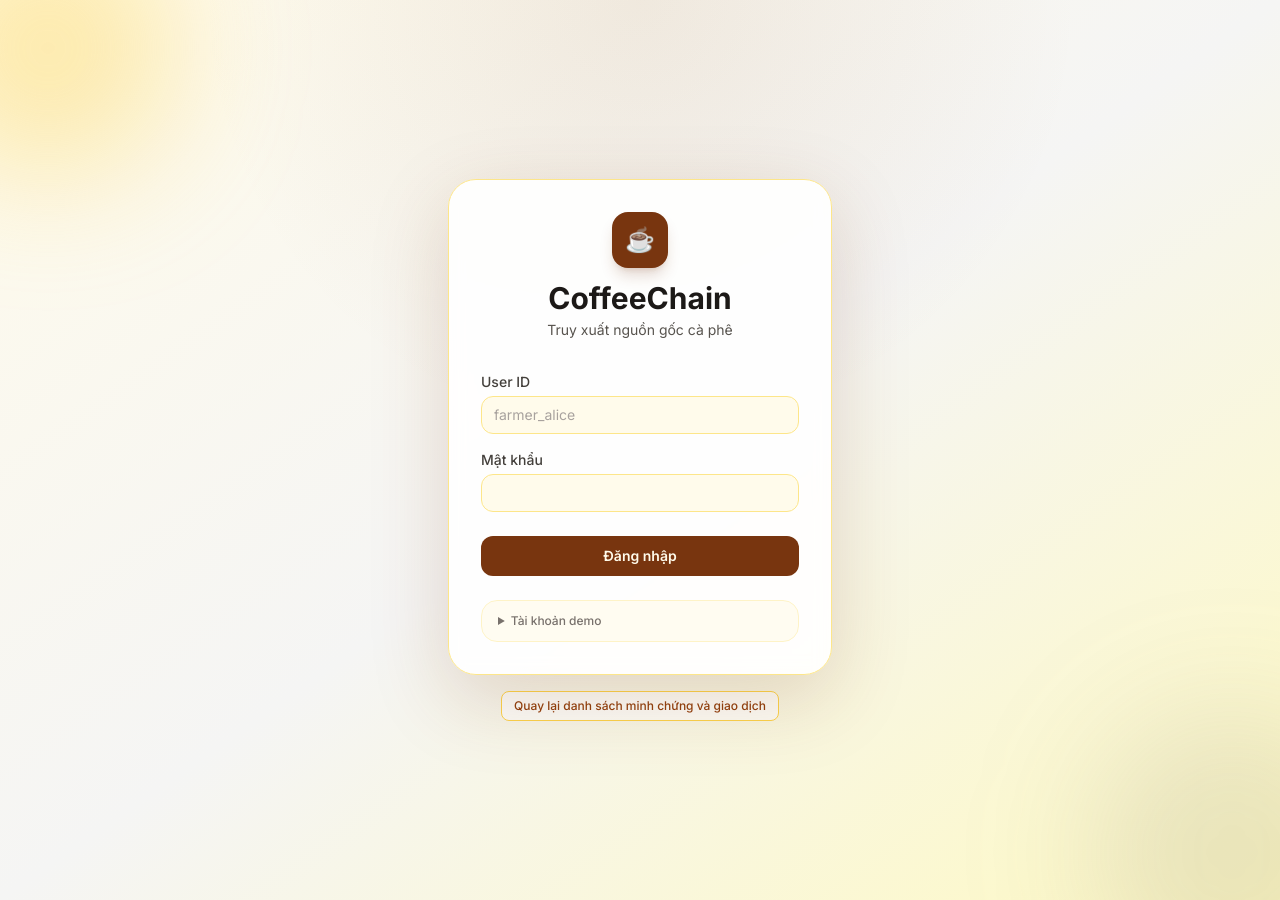
Test: LoginPage › user không tồn tại → hiển thị fallback message
Type "unknown_user" into the field labelled "User ID" at (640, 415), box [481,396,799,434]
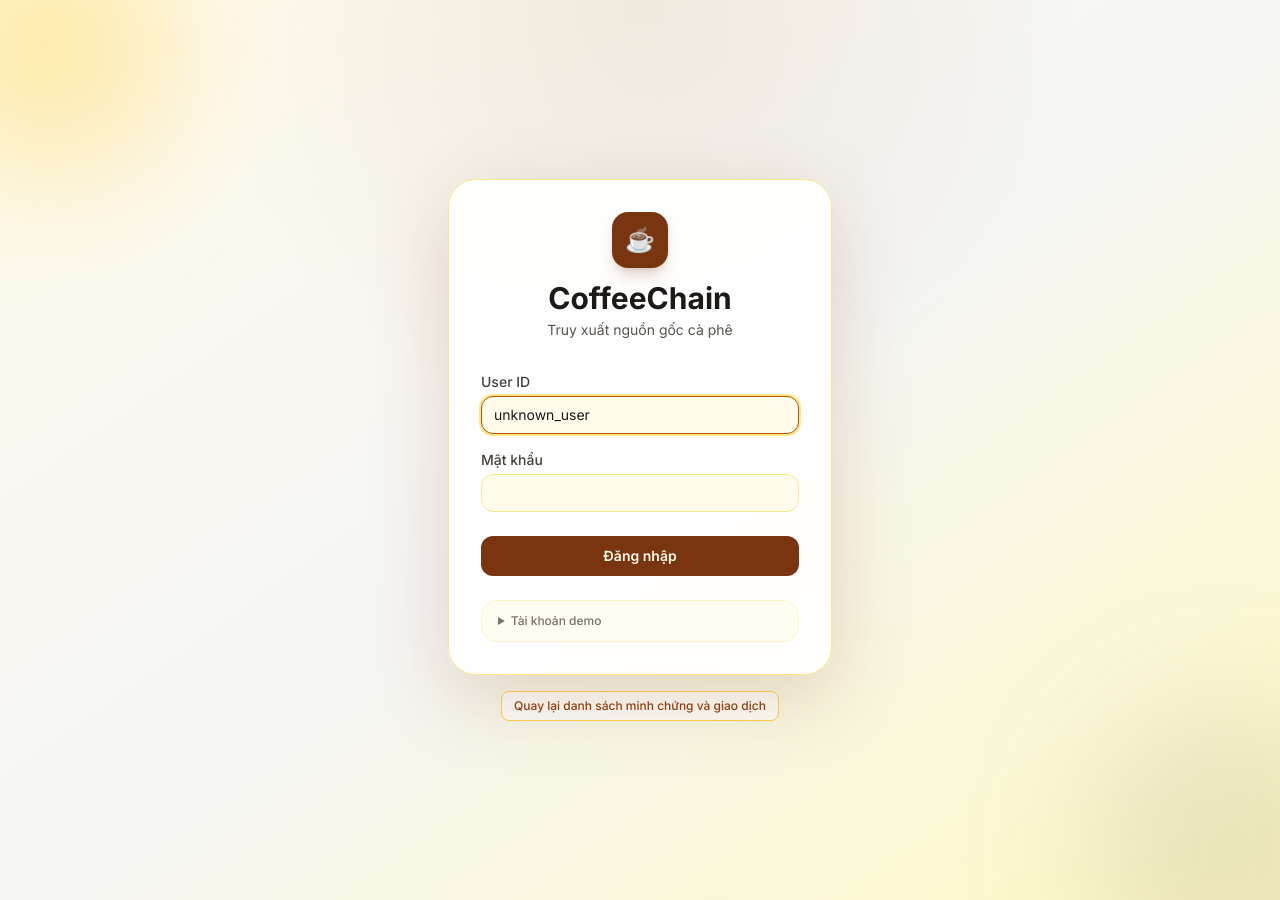
Type "pw123" into the password field labelled "Mật khẩu" at (640, 493), box [481,474,799,512]
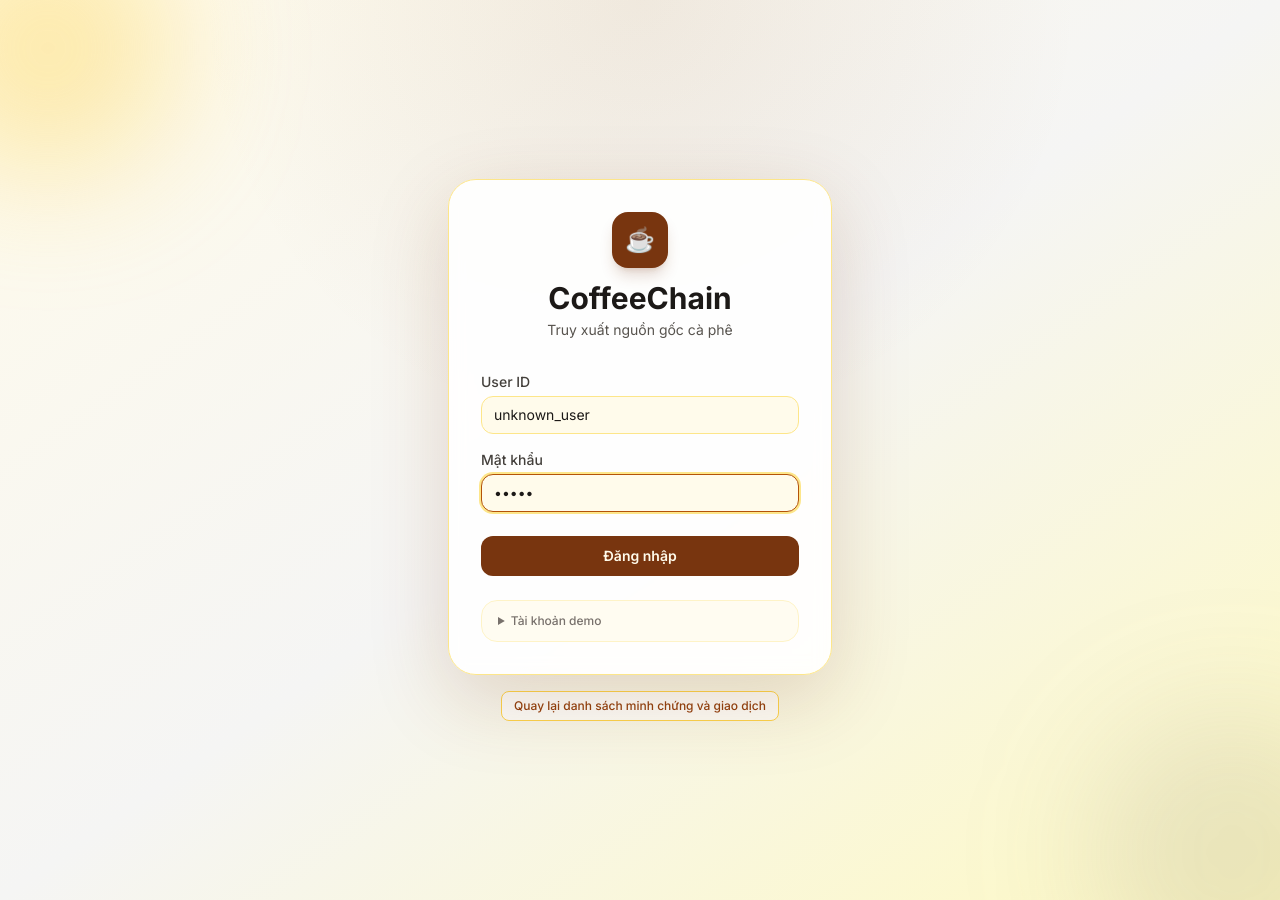
Click the button "Đăng nhập" at (640, 556), box [481,536,799,576]
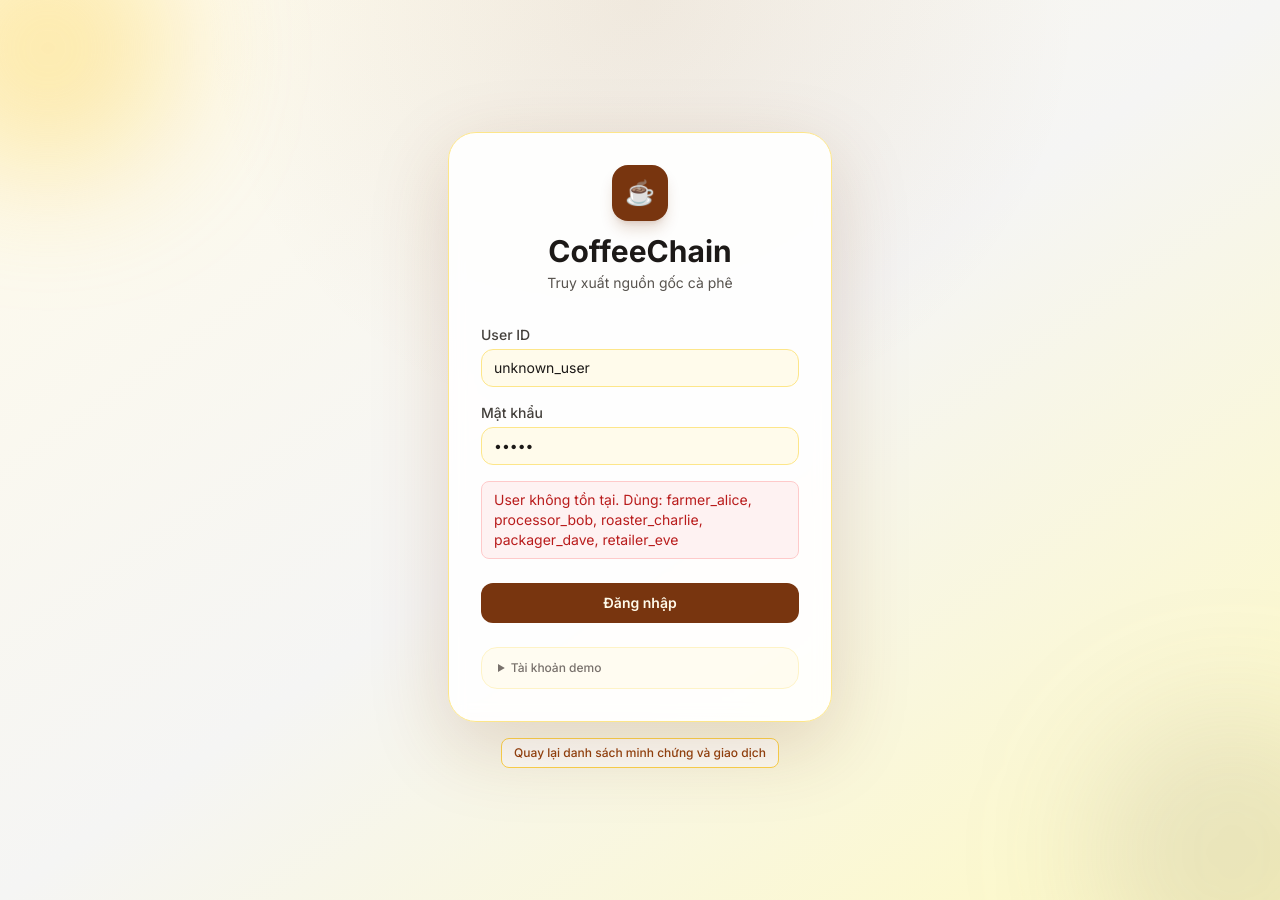
Now the message shows "User không tồn tại", box [494,491,752,548]
